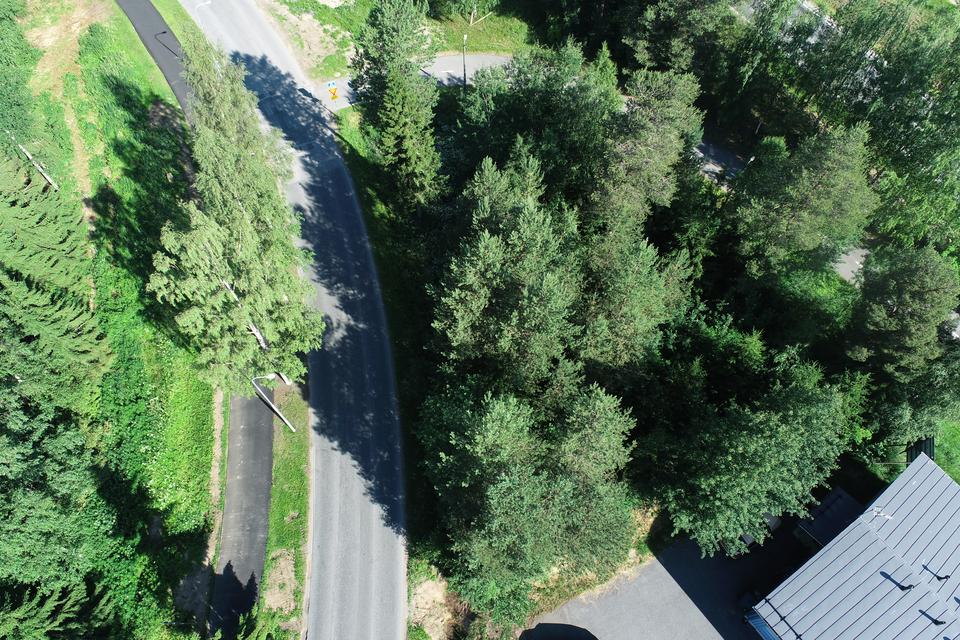intersection: (130, 37, 399, 159)
